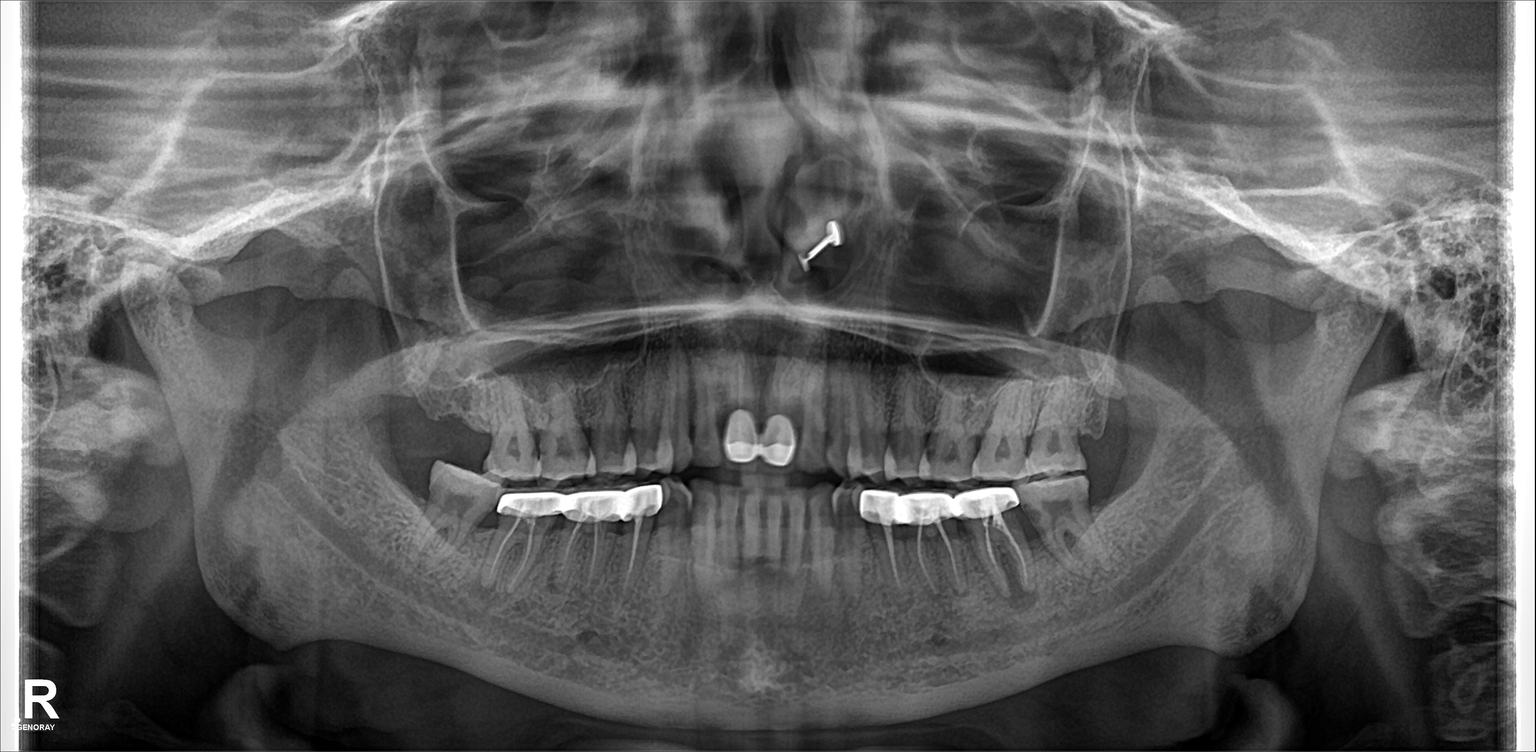Dental Caries: (439, 488, 475, 518)
Endodontically Treated Tooth: (609, 488, 667, 602), (968, 486, 1022, 608), (909, 484, 959, 612), (561, 490, 612, 600), (862, 493, 906, 620), (715, 348, 760, 462), (499, 493, 542, 594), (771, 350, 799, 465)
Missing Tooth: (428, 372, 478, 454), (1078, 378, 1123, 453), (391, 454, 428, 527), (395, 367, 429, 444)
